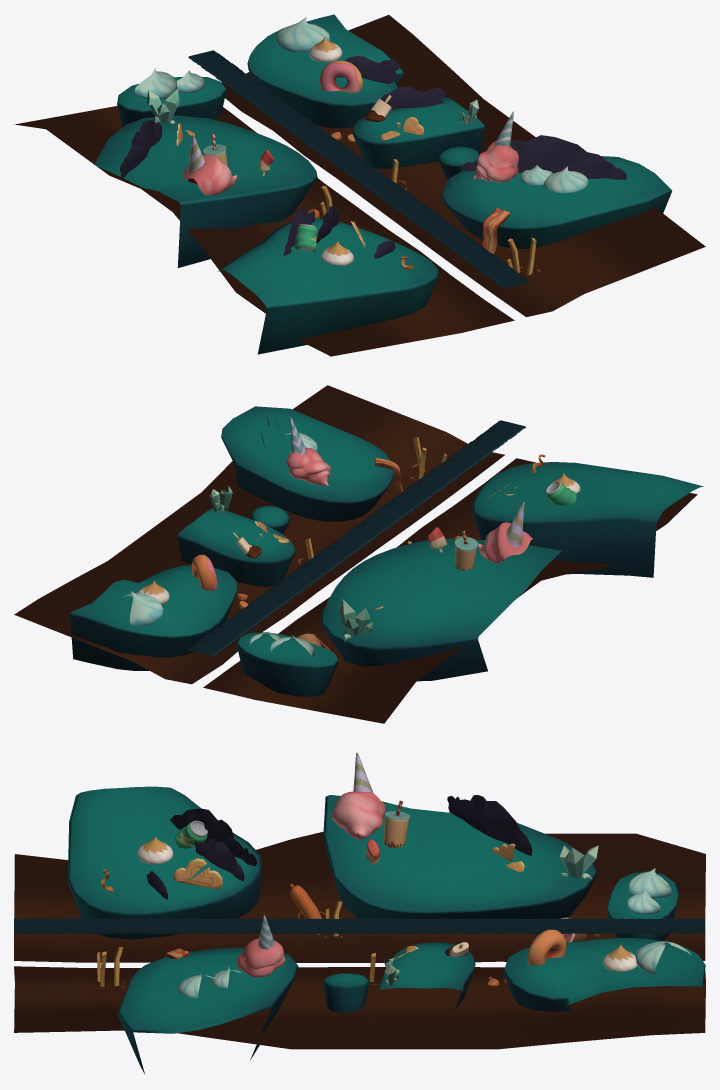
Rendered from stg3_A.gltf.
3 views of the same model, one above another, from view 1: azimuth 30°, elevation 25°; view 2: azimuth 150°, elevation 25°; view 3: azimuth 270°, elevation 25° (orthographic). The views are drawn at different scales.
Parts seen in each view (by area): view 1: land_GEO:PIV, island_GEO6:PIV, island_GEO3:PIV, island_GEO7:PIV, path_GEO:PIV, island_GEO2:PIV, island_GEO4:PIV, island_GEO1:PIV, bush_GEO8:PIV, fallencottoncandy_low_GEO:PIV, fallencottoncandy_low_GEO2:PIV, meringue_GEO6:PIV (+14 smaller); view 2: land_GEO:PIV, island_GEO3:PIV, island_GEO6:PIV, island_GEO7:PIV, island_GEO2:PIV, path_GEO:PIV, island_GEO4:PIV, island_GEO1:PIV, fallencottoncandy_low_GEO2:PIV, fallencottoncandy_low_GEO:PIV, meringue_GEO6:PIV, crystal_GEO1:PIV (+4 smaller); view 3: land_GEO:PIV, island_GEO3:PIV, island_GEO6:PIV, path_GEO:PIV, island_GEO7:PIV, island_GEO2:PIV, island_GEO4:PIV, fallencottoncandy_low_GEO2:PIV, bush_GEO3:PIV, island_GEO1:PIV, fallencottoncandy_low_GEO:PIV, island_GEO5:PIV (+14 smaller).
Part boxes in pixels (bbox=[...]): land_GEO:PIV: bbox=[14, 15, 705, 356]; island_GEO6:PIV: bbox=[217, 218, 439, 354]; island_GEO3:PIV: bbox=[94, 115, 317, 267]; island_GEO7:PIV: bbox=[442, 156, 671, 248]; path_GEO:PIV: bbox=[188, 50, 530, 289]; island_GEO2:PIV: bbox=[247, 14, 403, 128]; island_GEO4:PIV: bbox=[352, 97, 484, 168]; island_GEO1:PIV: bbox=[117, 77, 226, 126]; bush_GEO8:PIV: bbox=[461, 135, 605, 172]; fallencottoncandy_low_GEO:PIV: bbox=[473, 111, 518, 182]; fallencottoncandy_low_GEO2:PIV: bbox=[183, 134, 237, 195]; meringue_GEO6:PIV: bbox=[275, 17, 330, 52]; land_GEO:PIV: bbox=[14, 385, 697, 723]; island_GEO3:PIV: bbox=[321, 538, 561, 681]; island_GEO6:PIV: bbox=[471, 462, 703, 577]; island_GEO7:PIV: bbox=[221, 406, 393, 521]; island_GEO2:PIV: bbox=[70, 565, 237, 670]; path_GEO:PIV: bbox=[187, 420, 525, 656]; island_GEO4:PIV: bbox=[177, 508, 295, 586]; island_GEO1:PIV: bbox=[237, 632, 338, 696]; fallencottoncandy_low_GEO2:PIV: bbox=[478, 502, 532, 563]; fallencottoncandy_low_GEO:PIV: bbox=[286, 417, 330, 485]; meringue_GEO6:PIV: bbox=[122, 591, 163, 626]; crystal_GEO1:PIV: bbox=[338, 599, 373, 642]; land_GEO:PIV: bbox=[14, 831, 705, 1049]; island_GEO3:PIV: bbox=[323, 795, 597, 919]; island_GEO6:PIV: bbox=[67, 786, 261, 939]; path_GEO:PIV: bbox=[14, 918, 705, 933]; island_GEO7:PIV: bbox=[117, 947, 298, 1073]; island_GEO2:PIV: bbox=[503, 938, 705, 1011]; island_GEO4:PIV: bbox=[377, 942, 475, 1010]; fallencottoncandy_low_GEO2:PIV: bbox=[332, 752, 385, 839]; bush_GEO3:PIV: bbox=[447, 795, 532, 855]; island_GEO1:PIV: bbox=[606, 871, 679, 941]; fallencottoncandy_low_GEO:PIV: bbox=[236, 915, 285, 977]; island_GEO5:PIV: bbox=[322, 973, 369, 1012].
Bounding box in the file's own units: 16525 × 4535 × 20852.
Materials: 9 (8 with a texture image).
